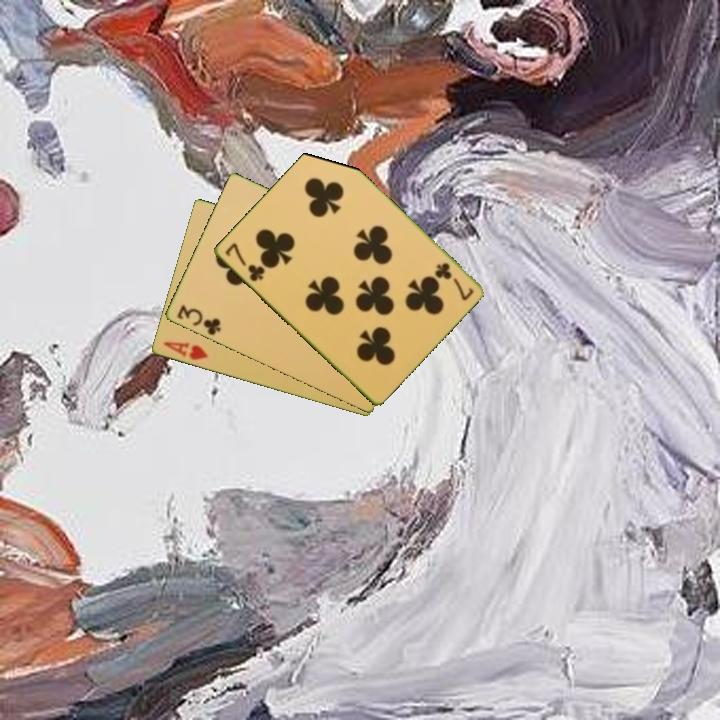3c: (173, 301, 224, 339)
7c: (221, 239, 267, 285), (431, 259, 476, 304)
Ah: (160, 338, 211, 363)
